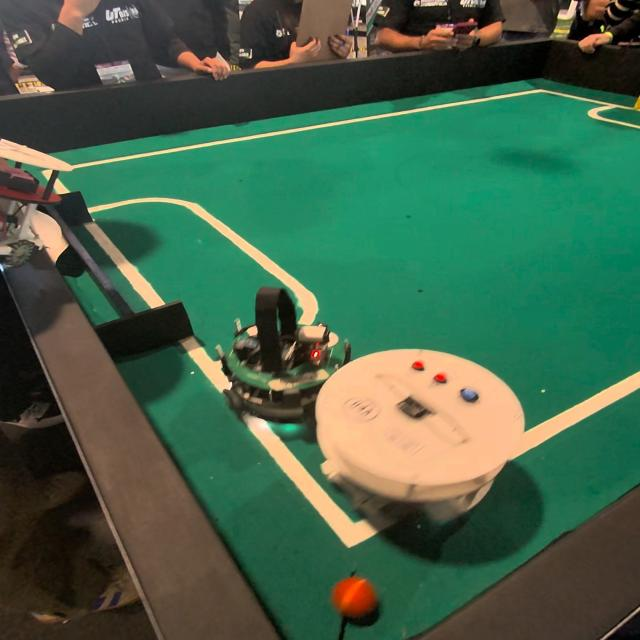Robot: (318, 347, 516, 540), (202, 274, 354, 442)
pelota: (326, 569, 384, 630)
